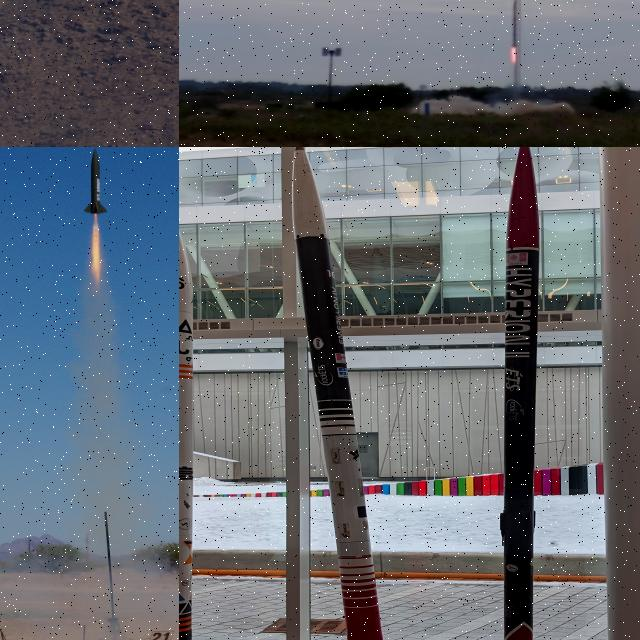Rocket: (291, 147, 384, 640), (503, 147, 540, 640), (179, 230, 194, 640), (84, 148, 107, 214), (512, 1, 518, 47)
